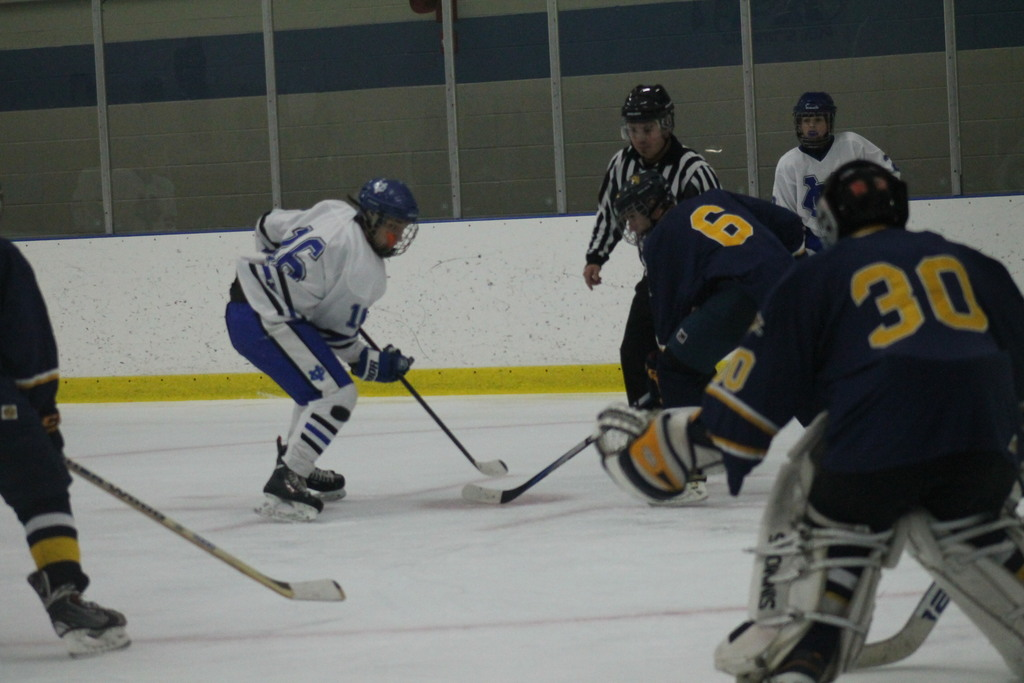Person: (601, 156, 1024, 683), (611, 162, 825, 507), (224, 176, 420, 523), (0, 236, 128, 639), (579, 81, 724, 411), (771, 88, 904, 249)
